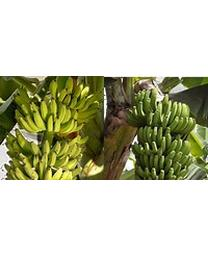banana: (13, 82, 91, 179), (126, 88, 195, 179)
